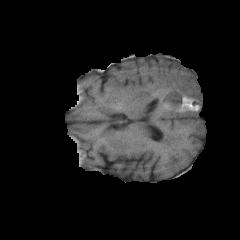glioma: (109, 63, 201, 143)
